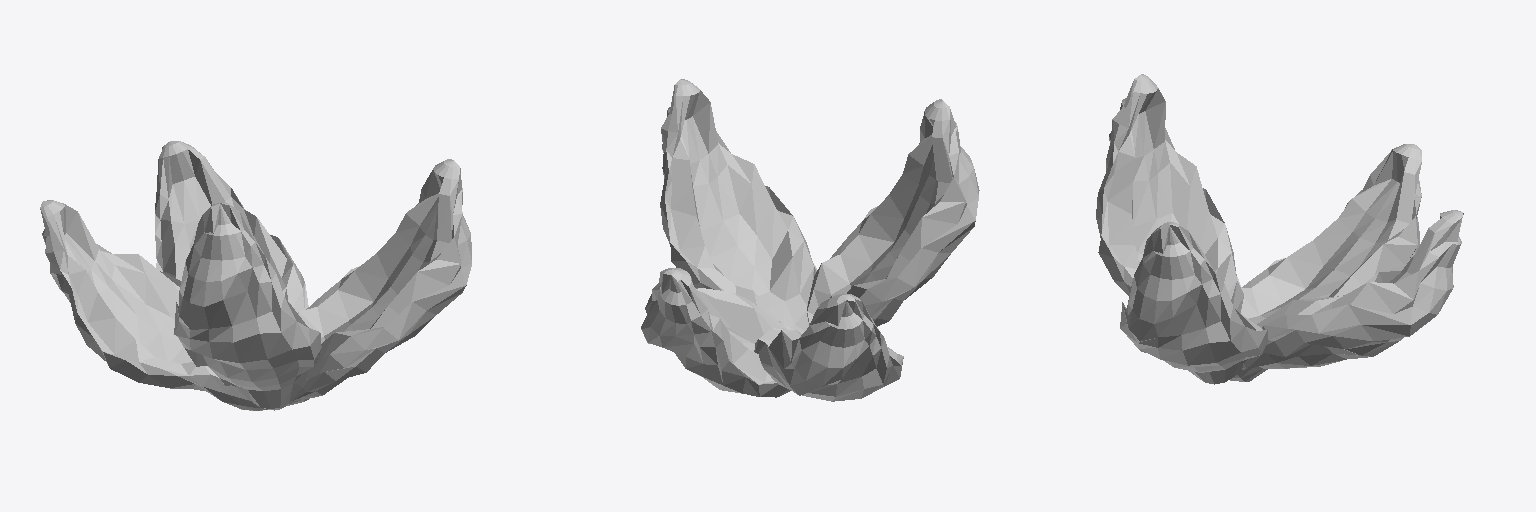
File: fourPetals.obj
3 views of the same model, side by side, from view 1: azimuth 30°, elevation 25°; view 2: azimuth 150°, elevation 25°; view 3: azimuth 270°, elevation 25° (orthographic).
Visible parts, largest first — view 1: pSphere4 group1, group1 pSphere3, group1 pSphere1, group1 pSphere2; view 2: pSphere4 group1, group1 pSphere3, group1 pSphere2, group1 pSphere1; view 3: group1 pSphere3, group1 pSphere1, pSphere4 group1, group1 pSphere2.
Part boxes in pixels (bbox=[...]): pSphere4 group1: bbox=[287, 159, 471, 405]; group1 pSphere3: bbox=[174, 203, 321, 410]; group1 pSphere1: bbox=[40, 200, 267, 410]; group1 pSphere2: bbox=[155, 141, 308, 312]; pSphere4 group1: bbox=[660, 79, 816, 333]; group1 pSphere3: bbox=[807, 99, 979, 326]; group1 pSphere2: bbox=[641, 268, 792, 397]; group1 pSphere1: bbox=[751, 293, 903, 401]; group1 pSphere3: bbox=[1096, 74, 1243, 312]; group1 pSphere1: bbox=[1241, 144, 1421, 327]; pSphere4 group1: bbox=[1120, 222, 1267, 384]; group1 pSphere2: bbox=[1230, 210, 1463, 381].
Size of the model in its own units: 4.58 by 3.61 by 4.64.